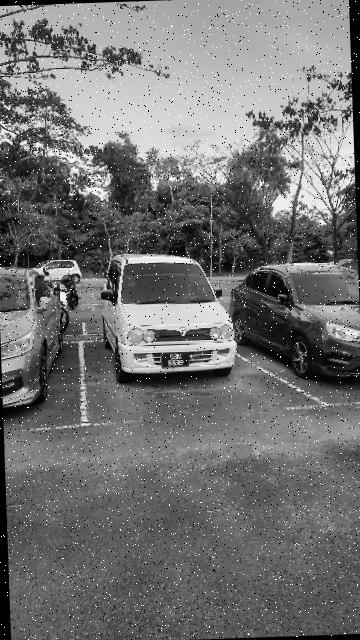License_Plate: (161, 352, 192, 368)
car: (98, 252, 240, 382)
